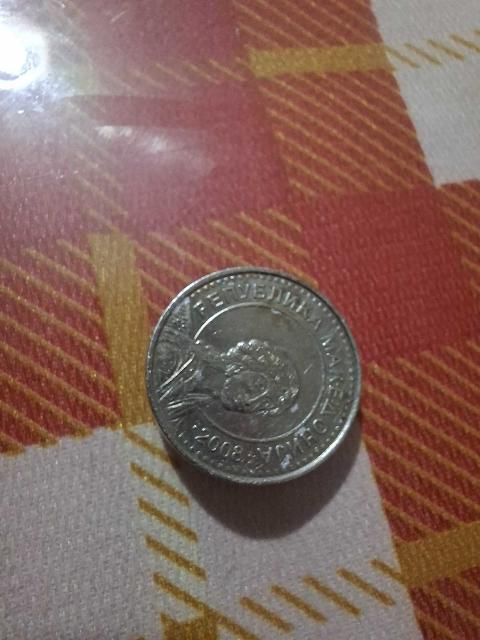50_coin: (151, 271, 359, 479)
